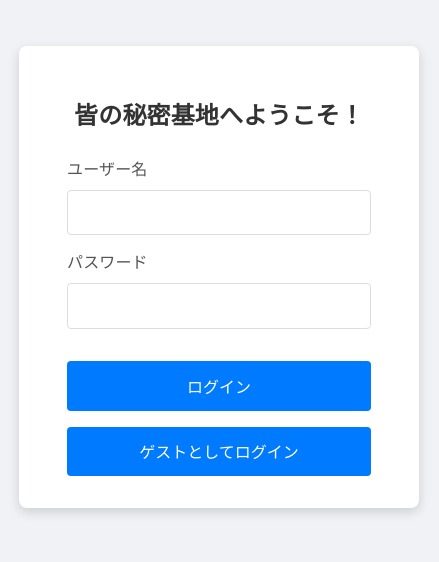
Test: Login Component › Failure Cases › should display error message for empty password field
Fill in only username, leave password empty
Type "testuser" into the field labelled "ユーザー名" at (219,213), box [67, 190, 371, 235]
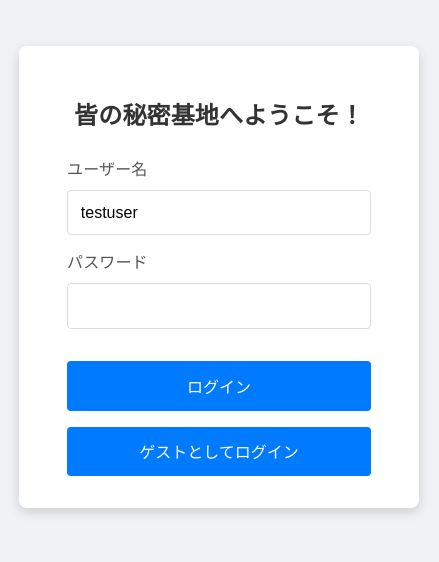
Click login button
Click the button "ログイン" at (219,386), box [67, 361, 371, 411]
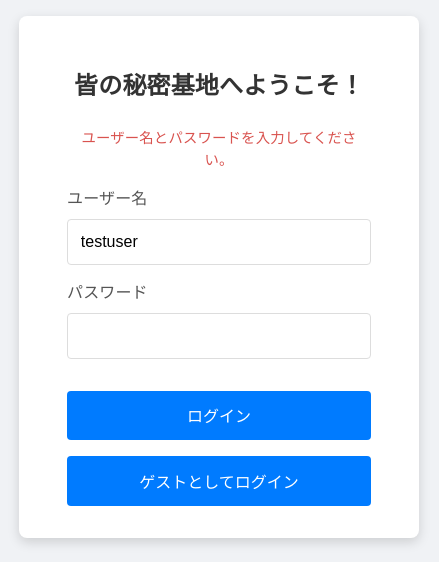
Now the text "ユーザー名とパスワードを入力してください。" is shown, box [67, 128, 371, 171]
